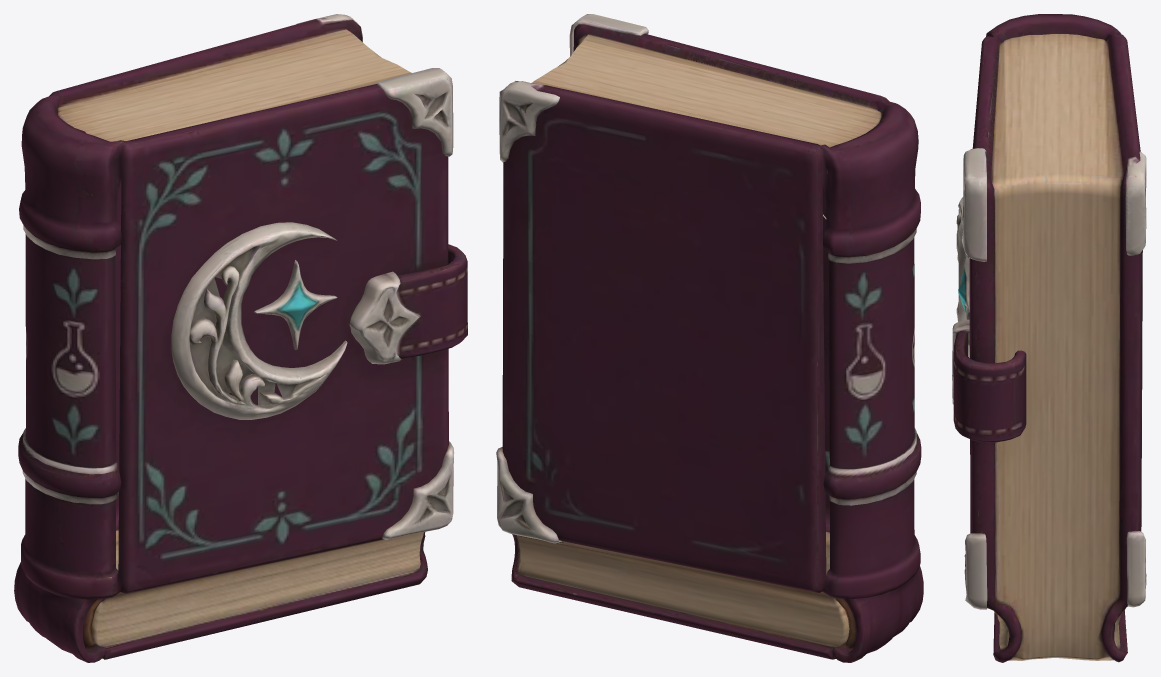
The model's file is apothecary-3.web.glb.
3 renders of one model, left to right at view 1: azimuth 30°, elevation 25°; view 2: azimuth 150°, elevation 25°; view 3: azimuth 270°, elevation 25°, orthographic. The views are drawn at different scales.
Parts seen in each view (by area): view 1: apothecary-3; view 2: apothecary-3; view 3: apothecary-3.
Boxes of the visible parts, box(x1,y1,x2,y2) form: apothecary-3: box(14, 14, 467, 662); apothecary-3: box(496, 14, 923, 662); apothecary-3: box(952, 14, 1146, 662).
Bounding box in the file's own units: 0.1713 × 0.215 × 0.077.
1 material, 1 textured.
